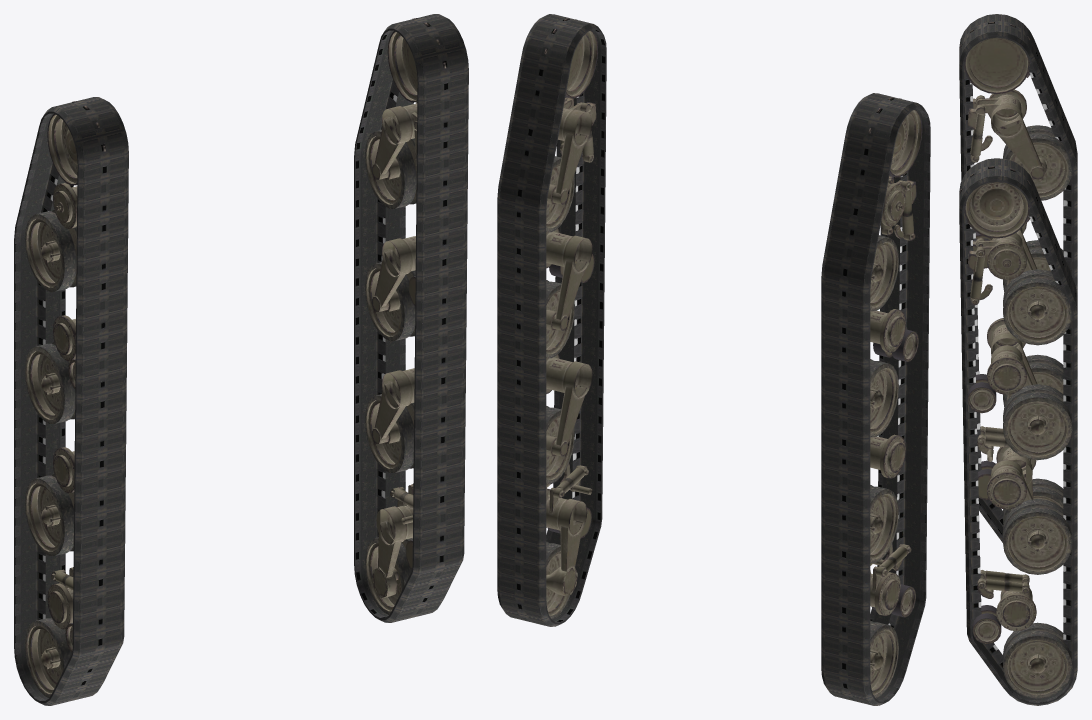
Rendered from Chassis.glb.
3 views of the same model, side by side, from view 1: azimuth 30°, elevation 25°; view 2: azimuth 150°, elevation 25°; view 3: azimuth 270°, elevation 25° (orthographic). The views are drawn at different scales.
Parts seen in each view (by area): view 1: set_0_group_0, set_1_group_0, set_3_group_0, set_2_group_0; view 2: set_0_group_0, set_1_group_0, set_3_group_0, set_2_group_0; view 3: set_3_group_0, set_1_group_0, set_2_group_0, set_0_group_0.
Part boxes in pixels (bbox=[...]): set_0_group_0: bbox=[14, 97, 128, 705]; set_1_group_0: bbox=[354, 14, 468, 622]; set_3_group_0: bbox=[365, 18, 446, 614]; set_2_group_0: bbox=[25, 101, 105, 697]; set_0_group_0: bbox=[821, 93, 930, 705]; set_1_group_0: bbox=[497, 14, 606, 626]; set_3_group_0: bbox=[544, 18, 597, 619]; set_2_group_0: bbox=[868, 97, 922, 698]; set_3_group_0: bbox=[959, 166, 1072, 698]; set_1_group_0: bbox=[959, 158, 1077, 705]; set_2_group_0: bbox=[959, 22, 1071, 525]; set_0_group_0: bbox=[959, 14, 1077, 542].
Size of the model in its own units: 3.12 by 4.66 by 0.9429.
Materials: 4 (4 with a texture image).
